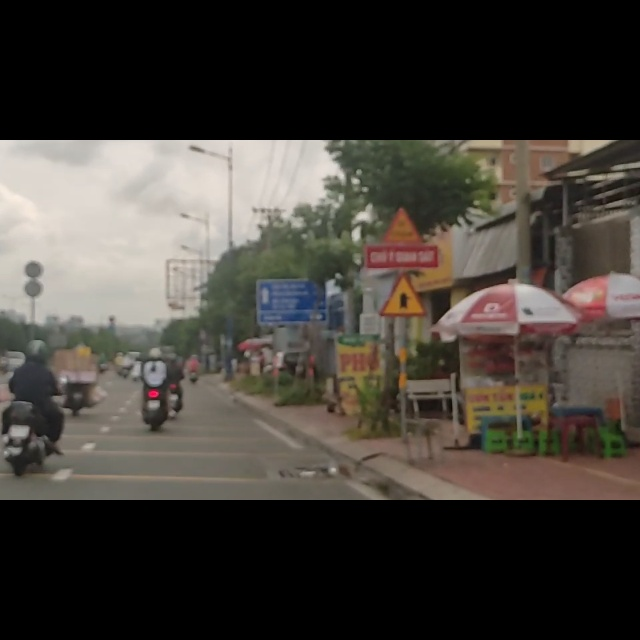bien_chi_dan: (377, 236, 429, 315)
